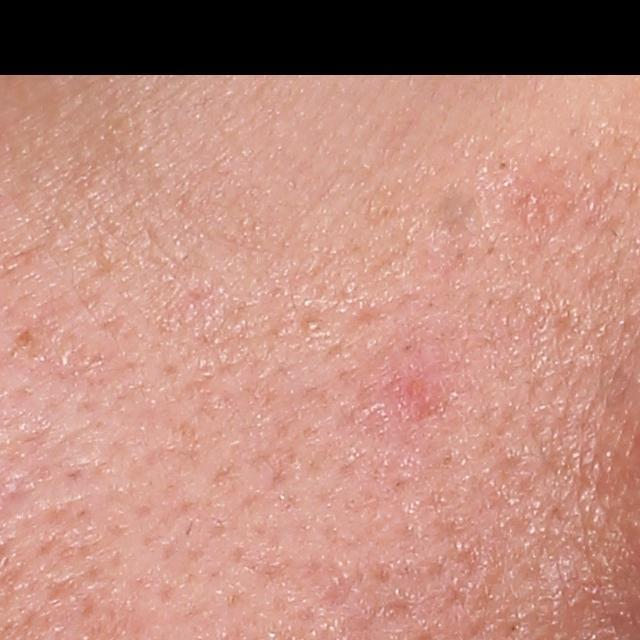comedo: (307, 318, 323, 337), (497, 157, 511, 171)
other: (435, 180, 485, 235)
